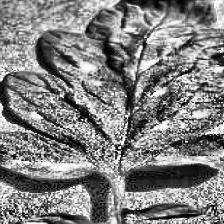leaf mold: (0, 0, 224, 176)
